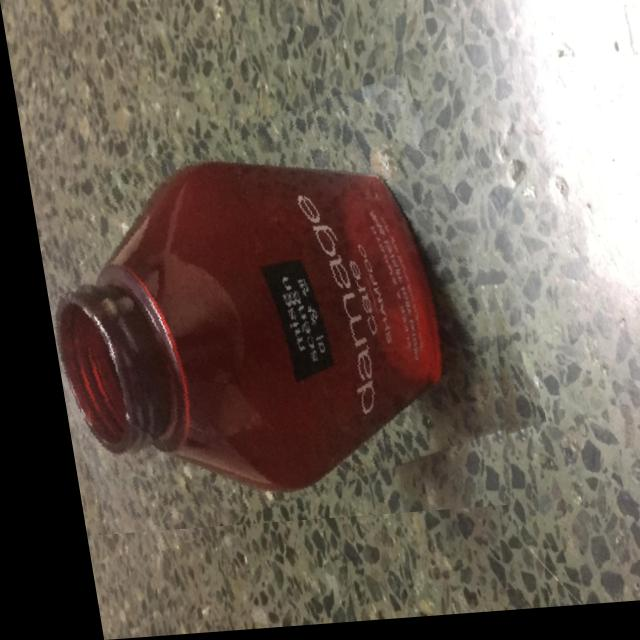litter: (16, 98, 522, 536), (29, 220, 196, 459)
